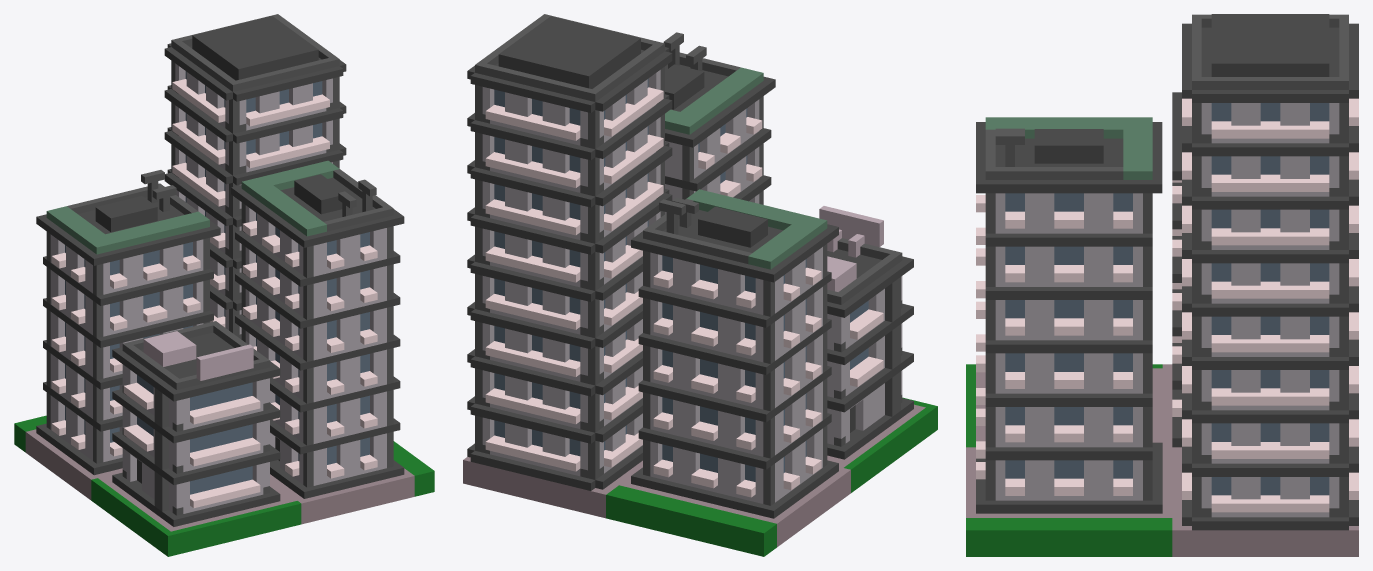
Rendered from CityMiddle.fbx.
3 renders of one model, left to right at view 1: azimuth 30°, elevation 25°; view 2: azimuth 150°, elevation 25°; view 3: azimuth 270°, elevation 25°, orthographic. The views are drawn at different scales.
Visible parts, largest first — view 1: CityMiddle; view 2: CityMiddle; view 3: CityMiddle.
Boxes of the visible parts, box(x1,y1,x2,y2) form: CityMiddle: box(14, 14, 434, 556); CityMiddle: box(463, 14, 937, 556); CityMiddle: box(966, 14, 1358, 556).
Size of the model in its own units: 2000 by 2700 by 2000.
